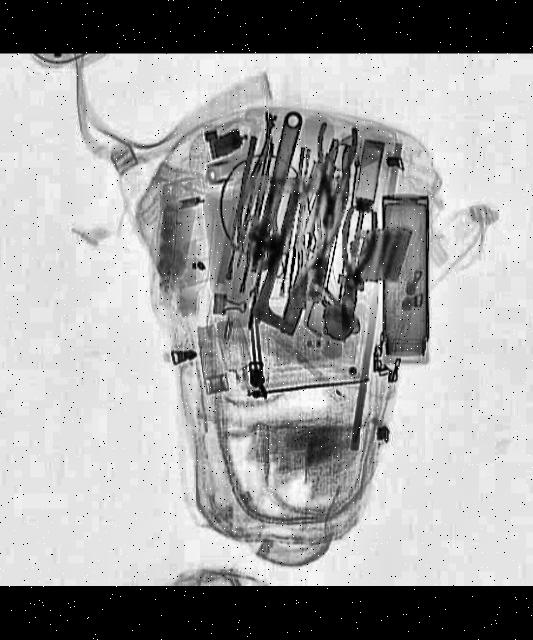Pliers: (325, 206, 384, 336), (307, 122, 362, 231)
Wrench: (242, 110, 313, 278)
